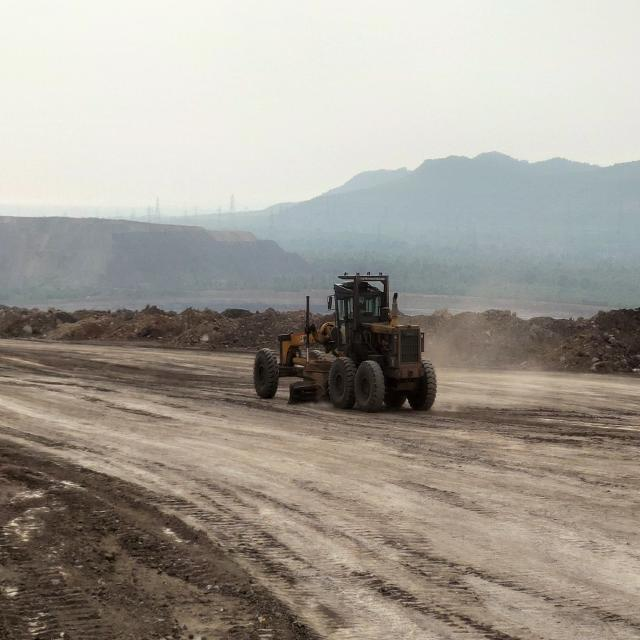buldozerpayloadergrader: (254, 273, 436, 412)
